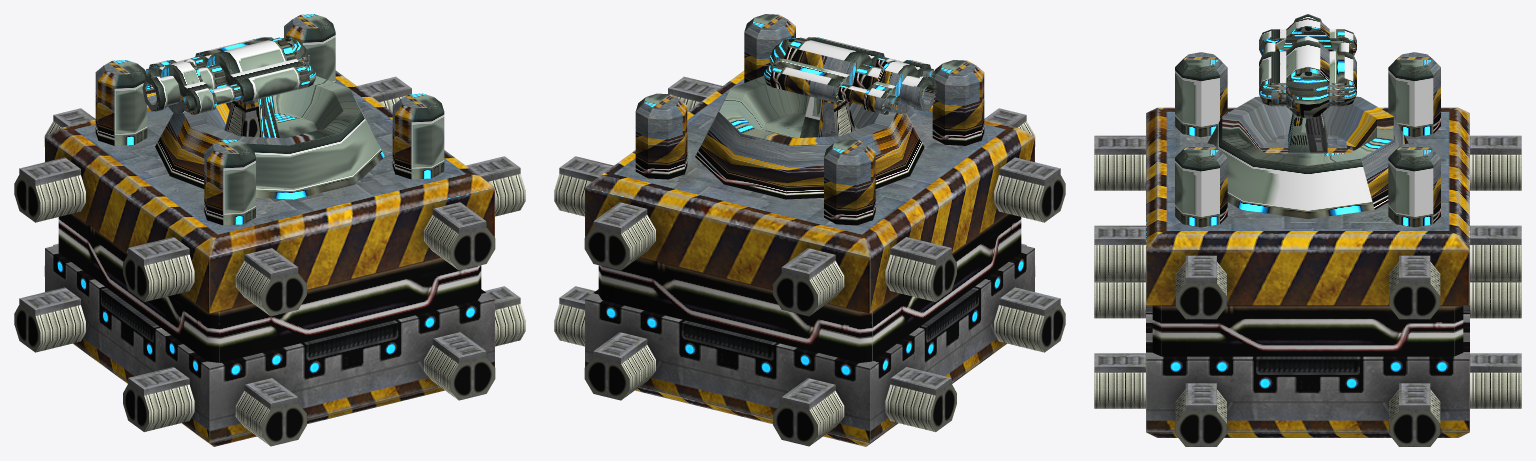
The model's file is Module_Turret_Mesh_WithTransfroms.dae.
The picture shows the model from 3 angles, left to right: view 1: azimuth 30°, elevation 25°; view 2: azimuth 150°, elevation 25°; view 3: azimuth 270°, elevation 25°; orthographic projection.
Parts seen in each view (by area): view 1: Module_Turret, Turret_Mount, Turret_Gun; view 2: Module_Turret, Turret_Mount, Turret_Gun; view 3: Module_Turret, Turret_Mount, Turret_Gun.
Part boxes in pixels (<box>): Module_Turret: <box>14,14,525,446</box>; Turret_Mount: <box>155,76,384,199</box>; Turret_Gun: <box>142,37,316,114</box>; Module_Turret: <box>554,14,1065,446</box>; Turret_Mount: <box>695,76,924,199</box>; Turret_Gun: <box>763,37,937,114</box>; Module_Turret: <box>1094,52,1521,446</box>; Turret_Mount: <box>1207,96,1408,218</box>; Turret_Gun: <box>1259,14,1356,118</box>.
Bounding box in the file's own units: 2 × 1.6 × 2.
